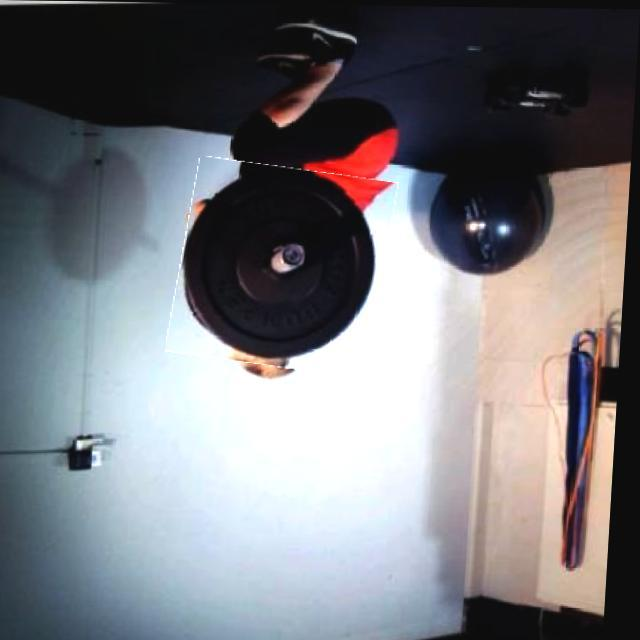barbell: (175, 161, 397, 372)
